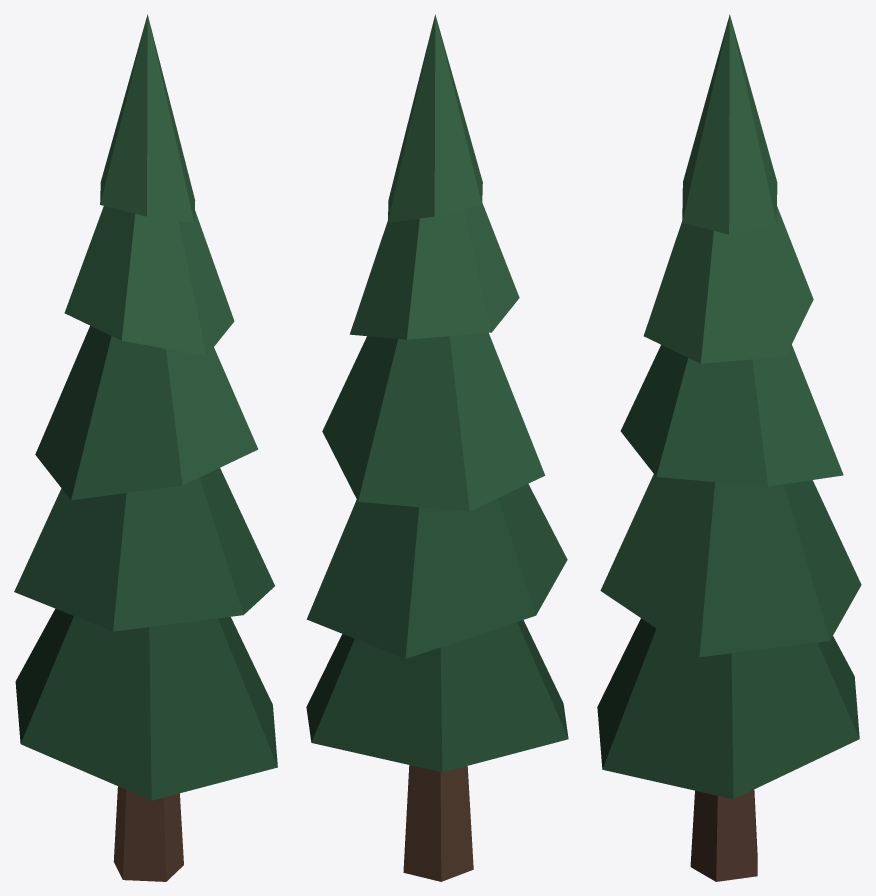
Rendered from tree-cedar.glb.
3 renders of one model, left to right at view 1: azimuth 30°, elevation 25°; view 2: azimuth 150°, elevation 25°; view 3: azimuth 270°, elevation 25°, orthographic.
Parts seen in each view (by area): view 1: tree; view 2: tree; view 3: tree.
Part boxes in pixels (x1,y1,x2,y2): tree: [14, 14, 277, 881]; tree: [306, 14, 568, 881]; tree: [597, 14, 861, 881].
Size of the model in its own units: 0.1199 by 0.38 by 0.1066.
